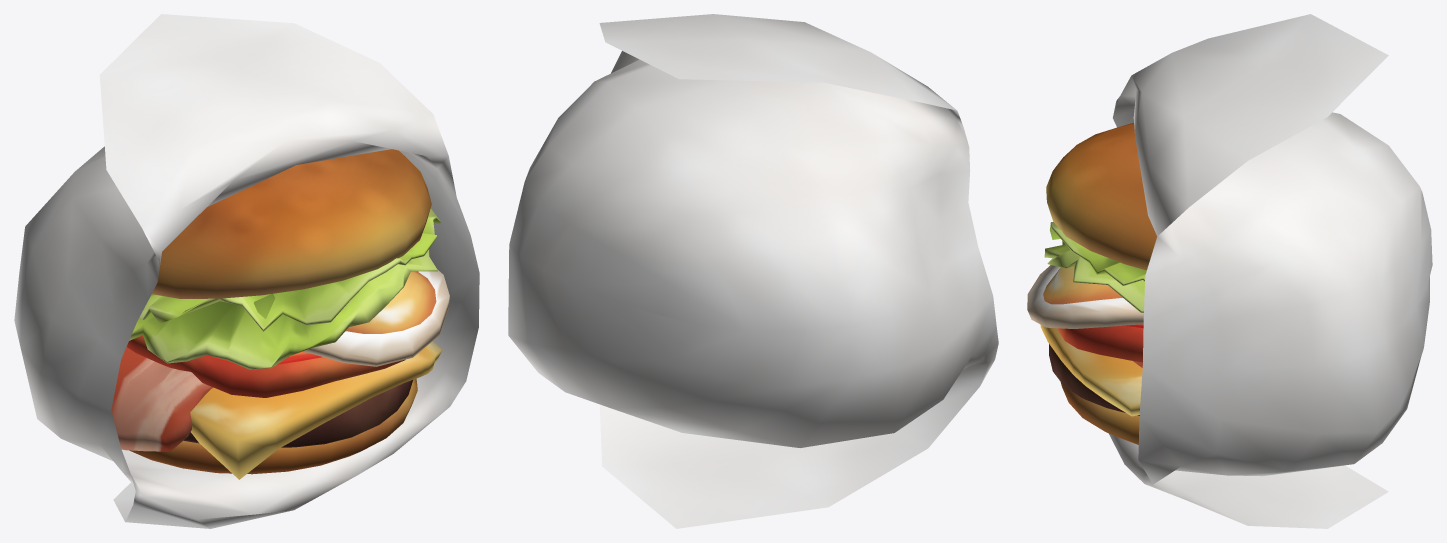
The model's file is hamburger_p.fbx.
3 renders of one model, left to right at view 1: azimuth 30°, elevation 25°; view 2: azimuth 150°, elevation 25°; view 3: azimuth 270°, elevation 25°, orthographic. The views are drawn at different scales.
Parts seen in each view (by area): view 1: hamburger; view 2: hamburger; view 3: hamburger.
Part boxes in pixels (bbox=[...]): hamburger: bbox=[14, 14, 479, 528]; hamburger: bbox=[508, 14, 998, 528]; hamburger: bbox=[1027, 14, 1432, 528].
Bounding box in the file's own units: 0.248 × 0.2665 × 0.225.
